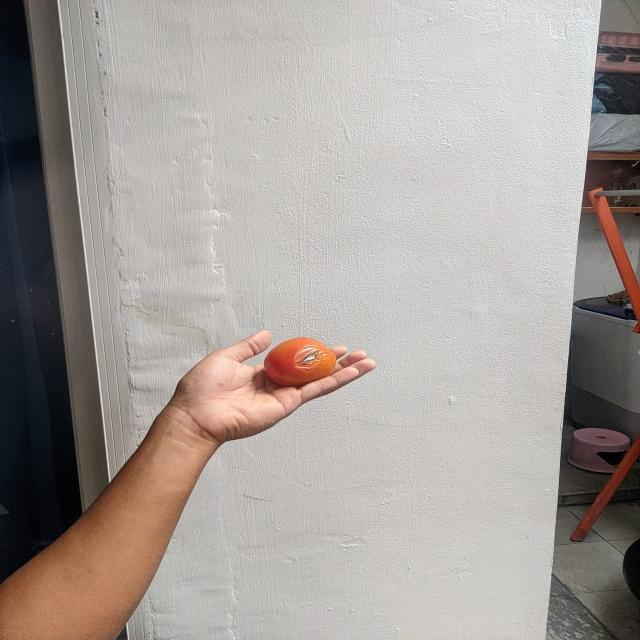Rotten Tomato: (263, 336, 338, 386)
